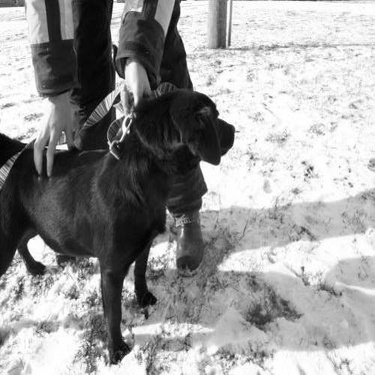dog: (1, 85, 240, 369)
